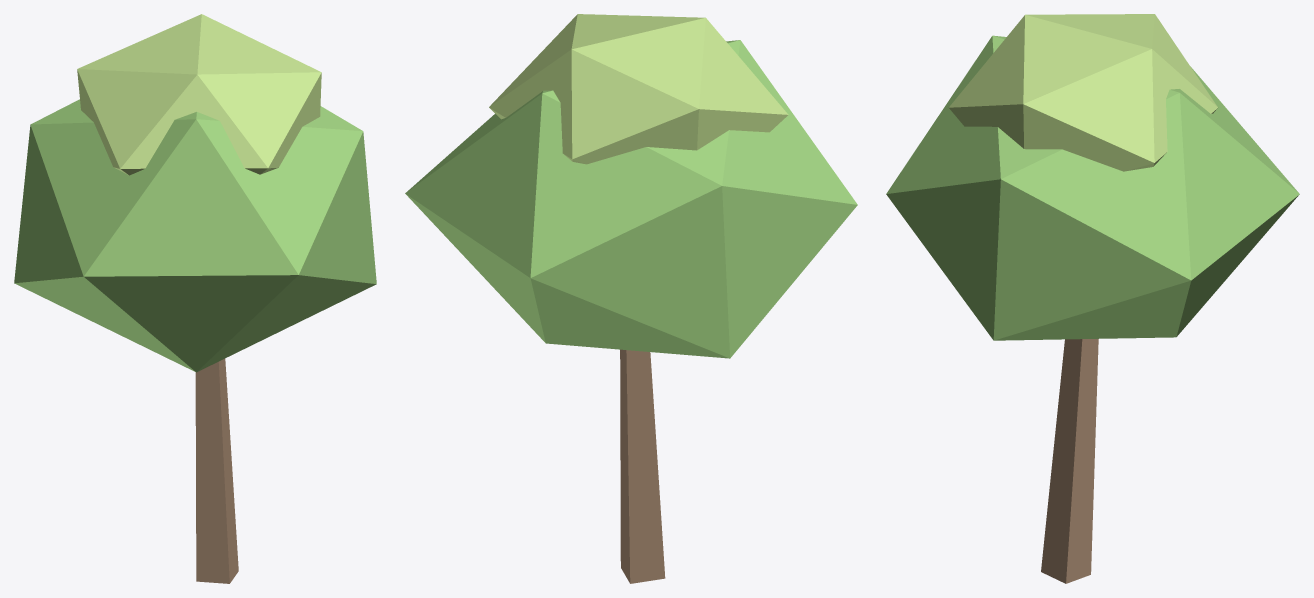
Rendered from pereira_0_lod.fbx.
The picture shows the model from 3 angles, left to right: view 1: azimuth 30°, elevation 25°; view 2: azimuth 150°, elevation 25°; view 3: azimuth 270°, elevation 25°; orthographic projection. The views are drawn at different scales.
Visible parts, largest first — view 1: pereira_0_lod~Copa@leaf, pereira_0_lod~Copa 0@leaflight, pereira_0_lod~Tronco@bark; view 2: pereira_0_lod~Copa@leaf, pereira_0_lod~Copa 0@leaflight, pereira_0_lod~Tronco@bark; view 3: pereira_0_lod~Copa@leaf, pereira_0_lod~Copa 0@leaflight, pereira_0_lod~Tronco@bark.
Part boxes in pixels (x1=…): pereira_0_lod~Copa@leaf: x1=14, y1=99, x2=376, y2=372; pereira_0_lod~Copa 0@leaflight: x1=77, y1=14, x2=321, y2=175; pereira_0_lod~Tronco@bark: x1=195, y1=358, x2=238, y2=583; pereira_0_lod~Copa@leaf: x1=405, y1=40, x2=857, y2=358; pereira_0_lod~Copa 0@leaflight: x1=489, y1=14, x2=788, y2=164; pereira_0_lod~Tronco@bark: x1=620, y1=349, x2=665, y2=583; pereira_0_lod~Copa@leaf: x1=886, y1=35, x2=1299, y2=340; pereira_0_lod~Copa 0@leaflight: x1=949, y1=14, x2=1217, y2=171; pereira_0_lod~Tronco@bark: x1=1041, y1=339, x2=1098, y2=583.
Bounding box in the file's own units: 2.21 × 3.32 × 2.31.
